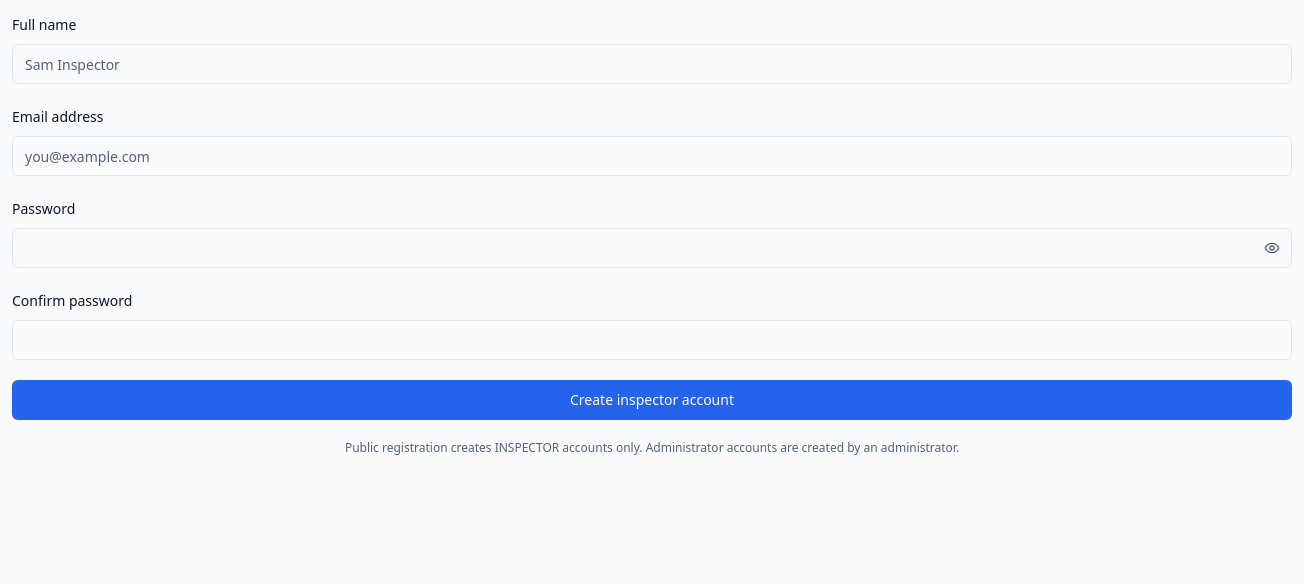
SignupForm › shows validation errors and does not submit an invalid form
Click the button "Create inspector account".
click(652, 400)  # box [12,380,1292,420]
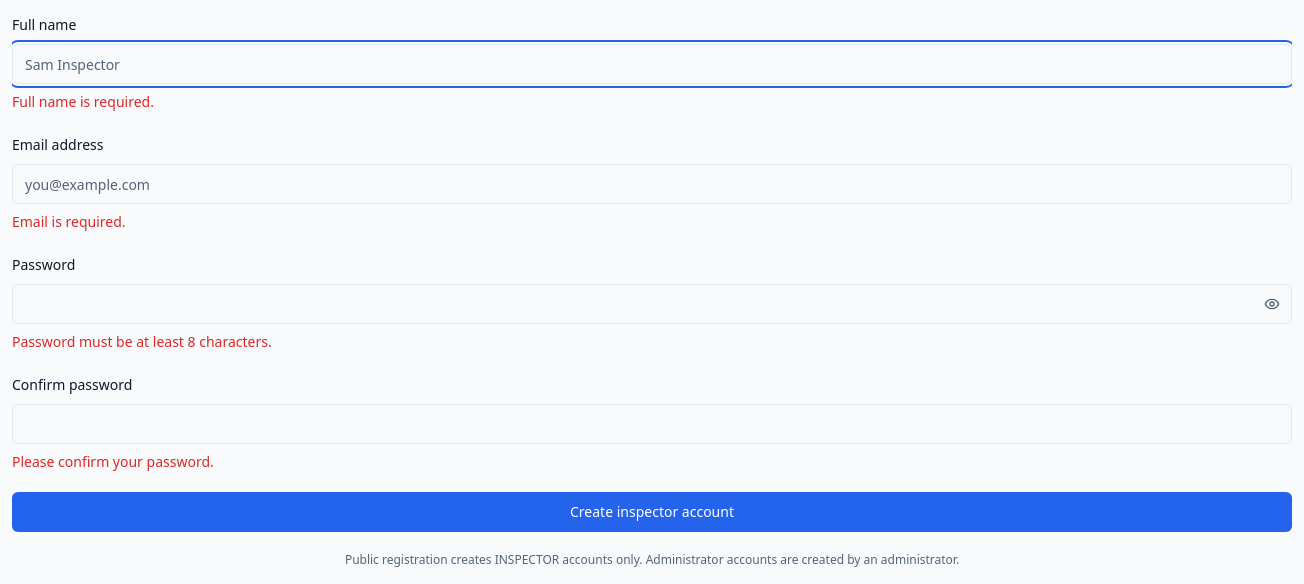
Result: the text "Full name is required." is shown at [12,92,154,111]
Result: the text "Password must be at least 8 characters." is shown at [12,332,272,351]
